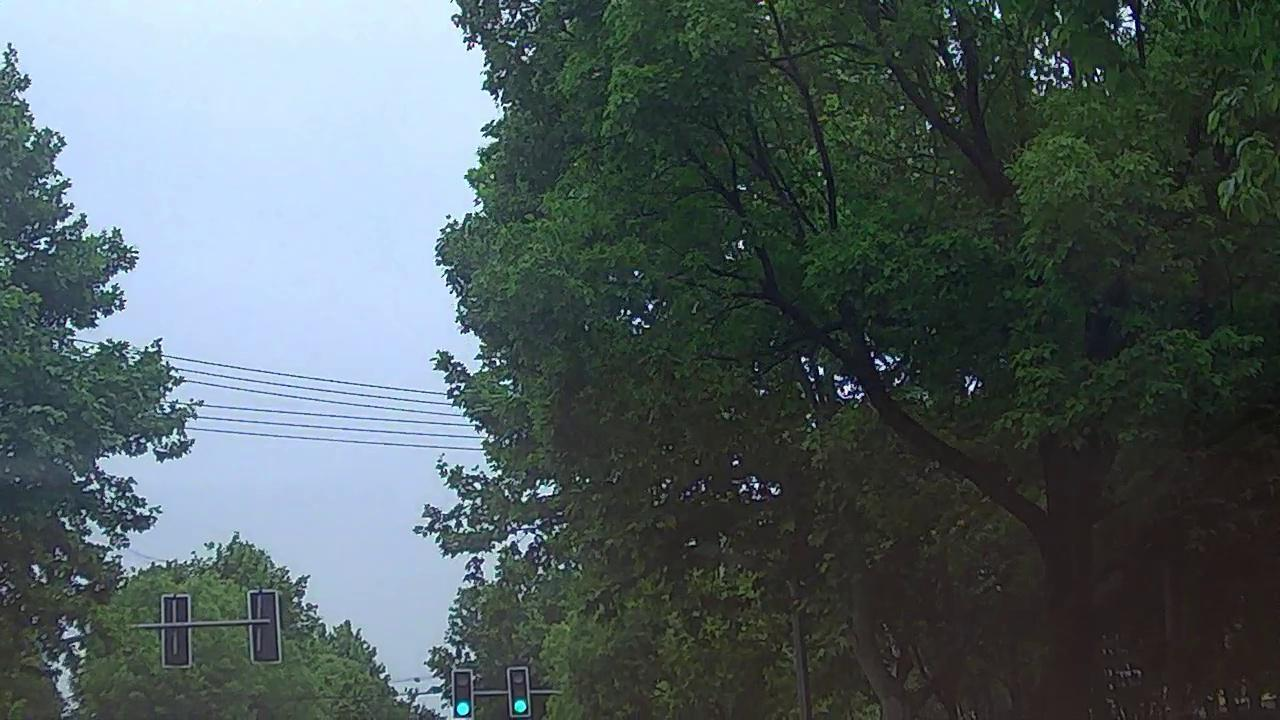traffic_light: (450, 670, 471, 717), (510, 669, 527, 720)
